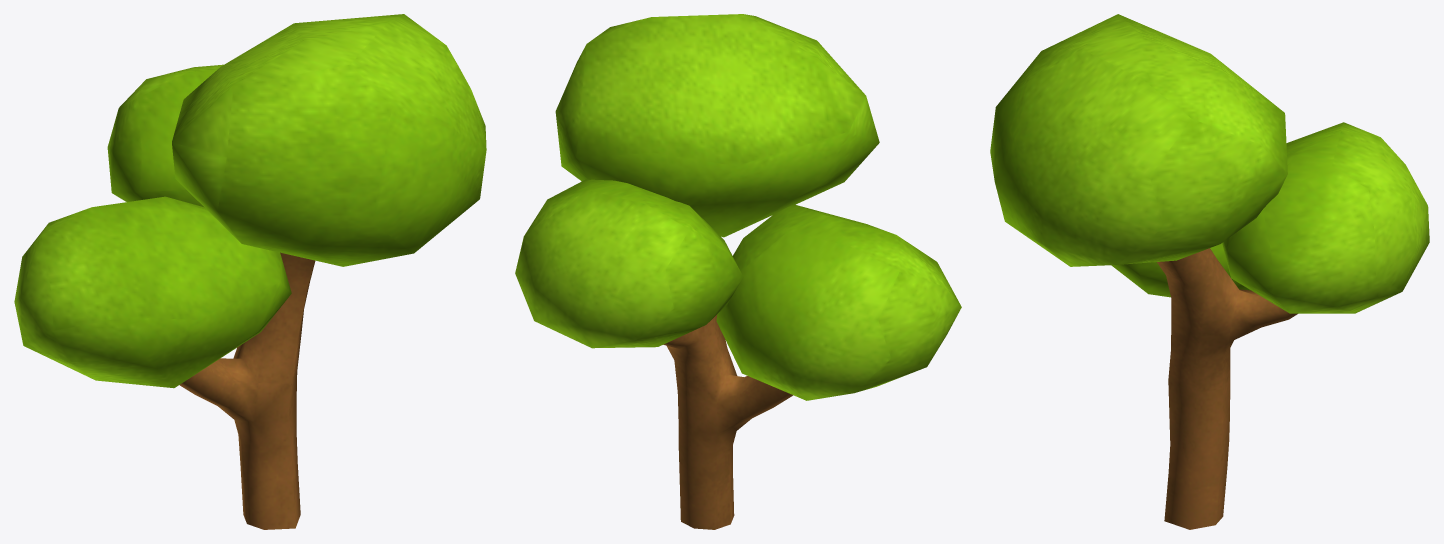
Rendered from Tree_03.fbx.
3 renders of one model, left to right at view 1: azimuth 30°, elevation 25°; view 2: azimuth 150°, elevation 25°; view 3: azimuth 270°, elevation 25°, orthographic. The views are drawn at different scales.
Parts seen in each view (by area): view 1: Cube.001; view 2: Cube.001; view 3: Cube.001.
Part boxes in pixels (x1,y1,x2,y2): Cube.001: (14,14,486,529); Cube.001: (515,14,961,529); Cube.001: (990,14,1429,529).
Bounding box in the file's own units: 743 × 852 × 703.
